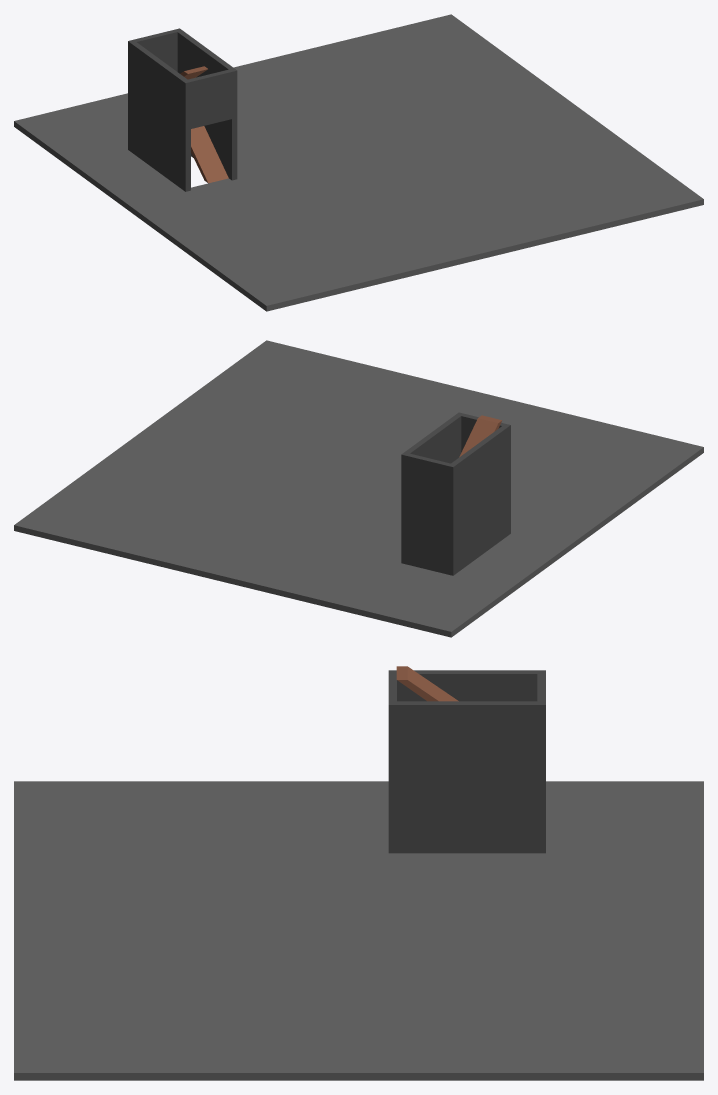
File: Stairs.glb
The picture shows the model from 3 angles, top to bottom: view 1: azimuth 30°, elevation 25°; view 2: azimuth 150°, elevation 25°; view 3: azimuth 270°, elevation 25°; orthographic projection. The views are drawn at different scales.
Visible parts, largest first — view 1: Stairs-col; view 2: Stairs-col; view 3: Stairs-col.
Boxes of the visible parts, x1,y1,x2,y2 form: Stairs-col: (14,14,703,311); Stairs-col: (14,340,703,637); Stairs-col: (14,666,703,1080).
Bounding box in the file's own units: 64 × 16.78 × 64.
Materials: 3 (3 with a texture image).
